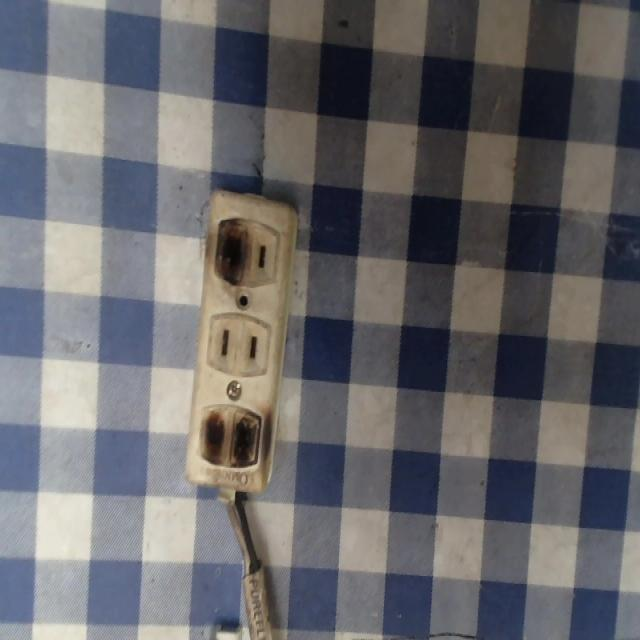-: (198, 398, 271, 474), (209, 209, 257, 295)
